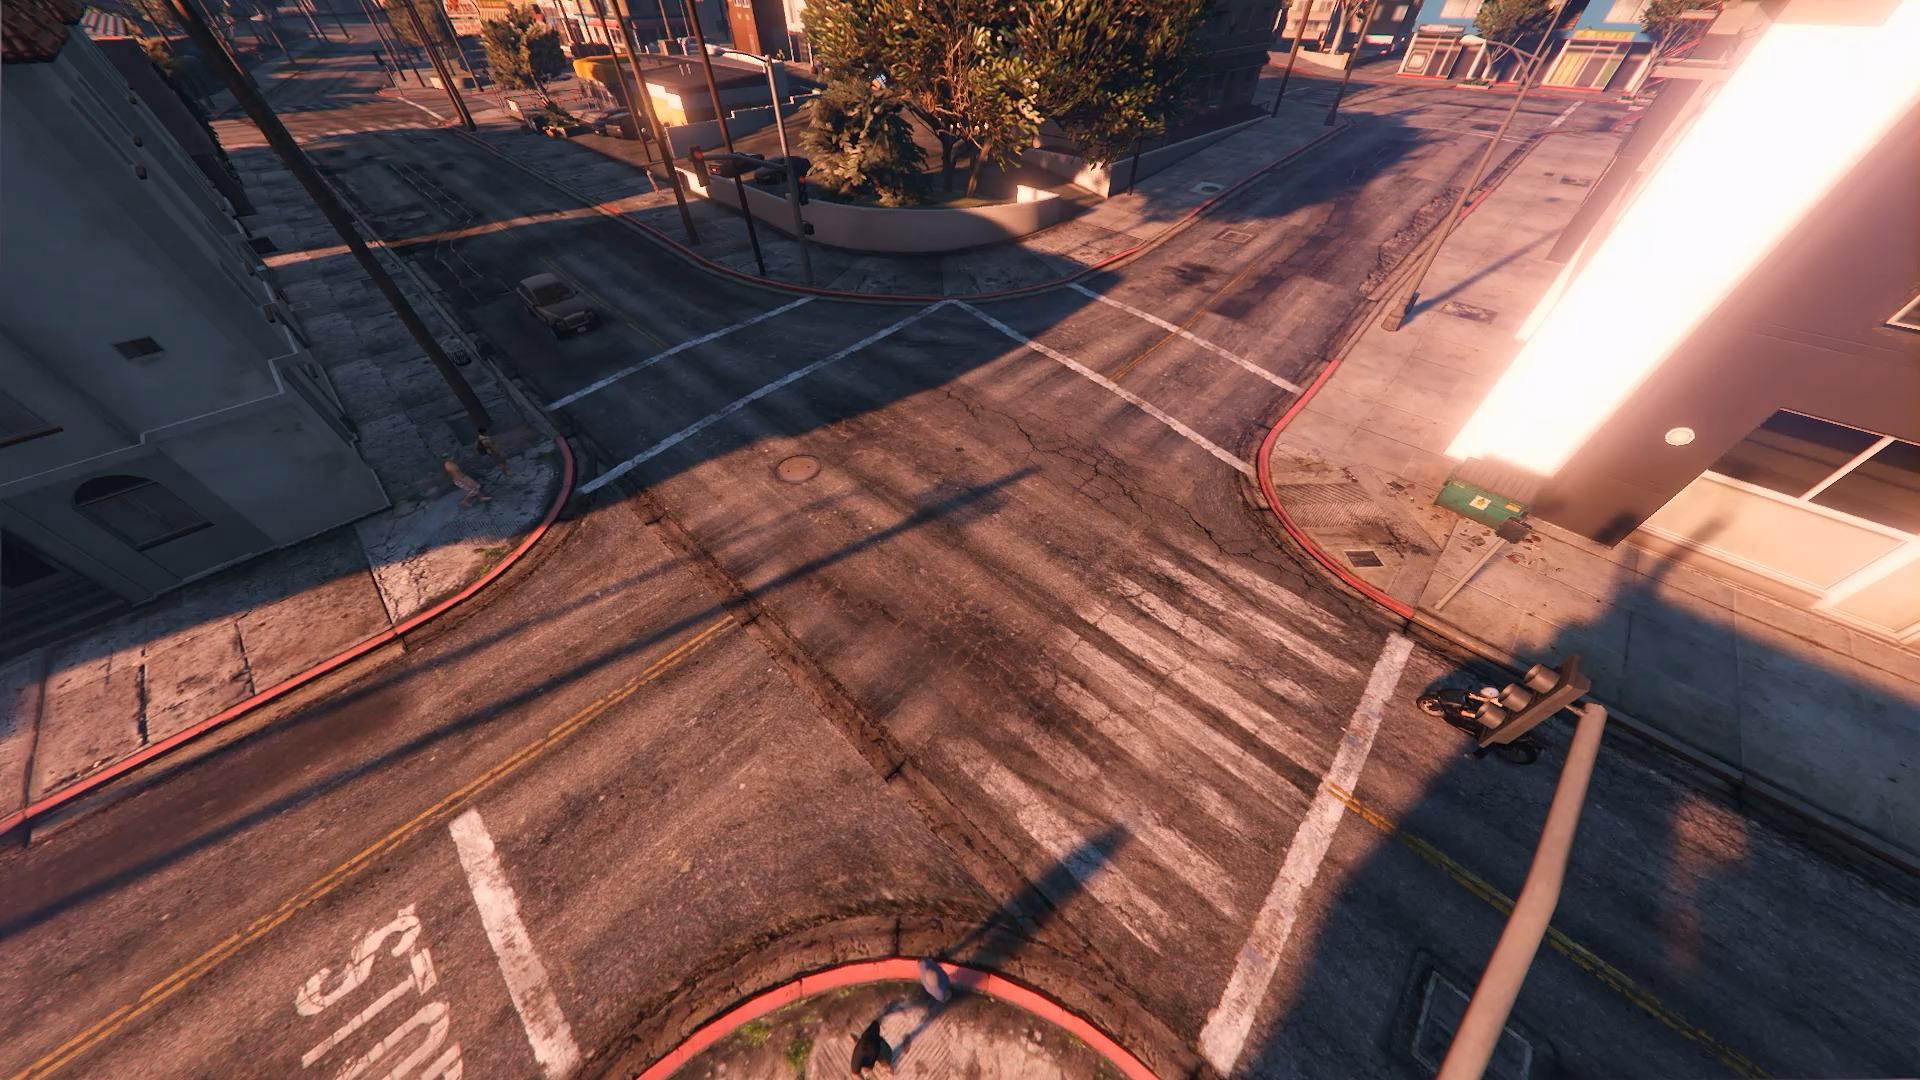car: (1416, 683, 1544, 762), (514, 272, 601, 340)
